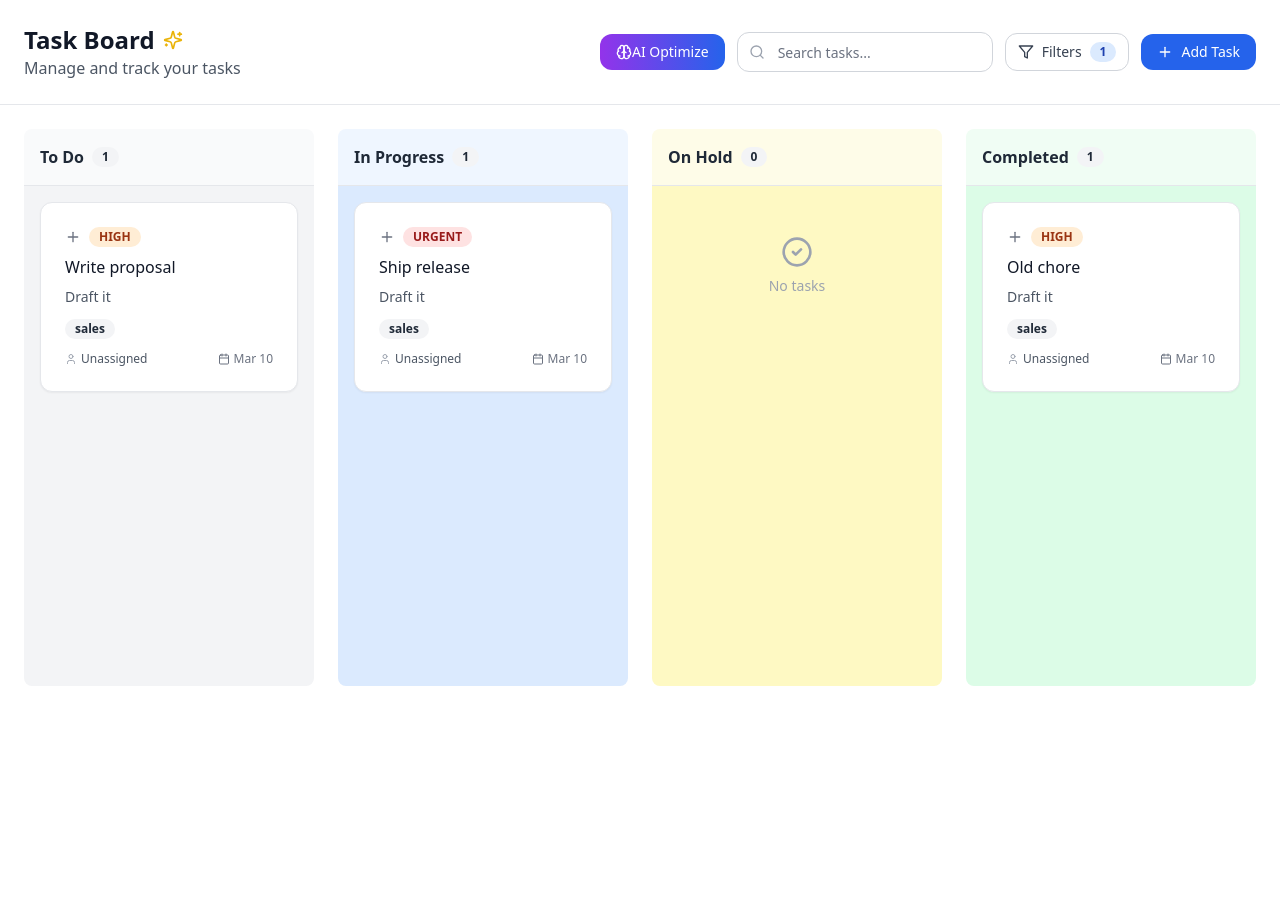
Scenario: TaskKanbanBoard › filters by search text
This screenshot has width=1280, height=900.
Type "release" into the field with placeholder "Search tasks..." at [865, 52], box [737,32,993,72]
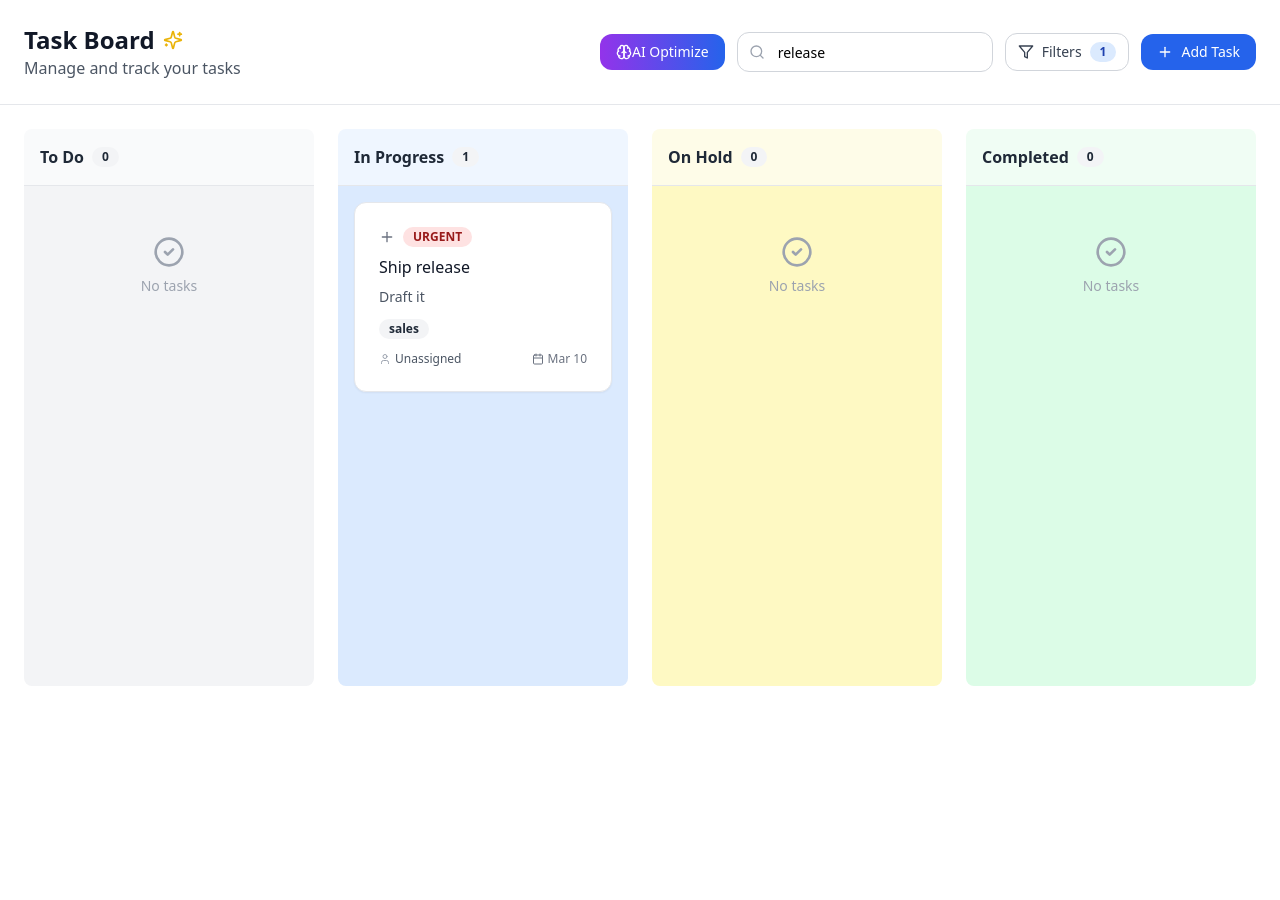
Check: the heading "Ship release" is shown, box [379,256,470,278]
Check: the heading "Write proposal" is gone
